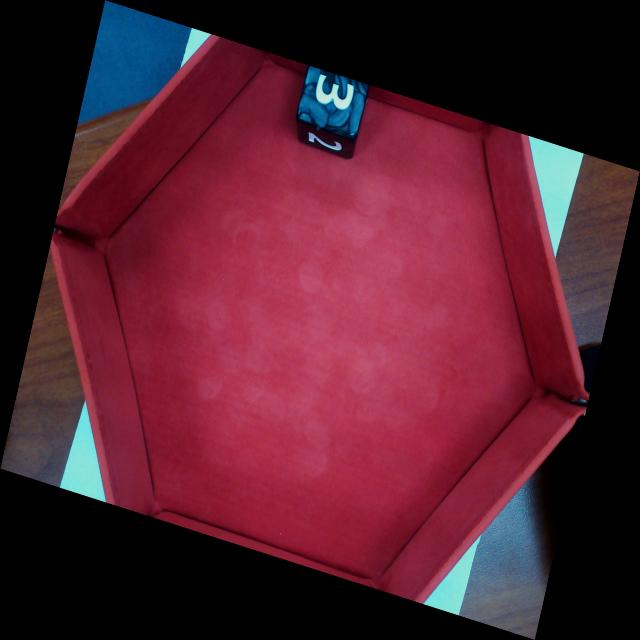dice: (296, 64, 370, 140)
